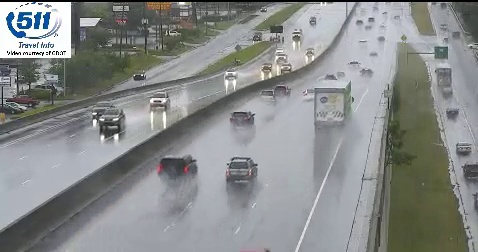car: (158, 155, 196, 183), (225, 159, 258, 182), (230, 111, 255, 128), (258, 89, 275, 104), (273, 85, 290, 98), (303, 89, 315, 100)
small-truck: (314, 82, 352, 129)
